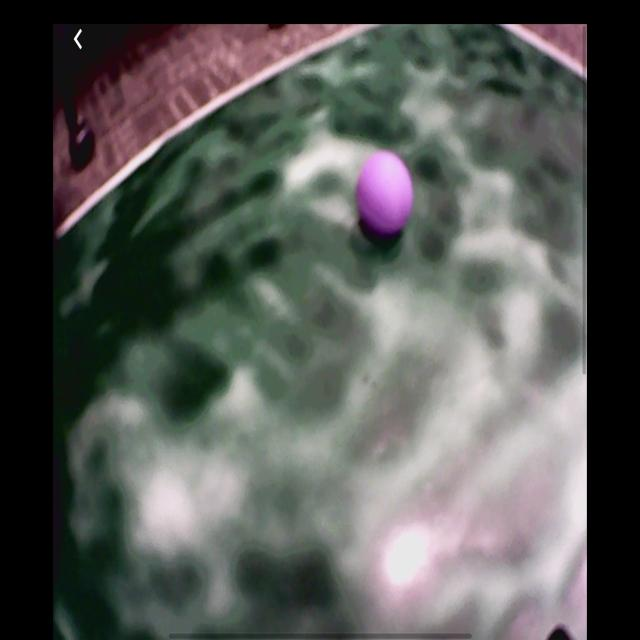ball: (357, 152, 414, 235)
